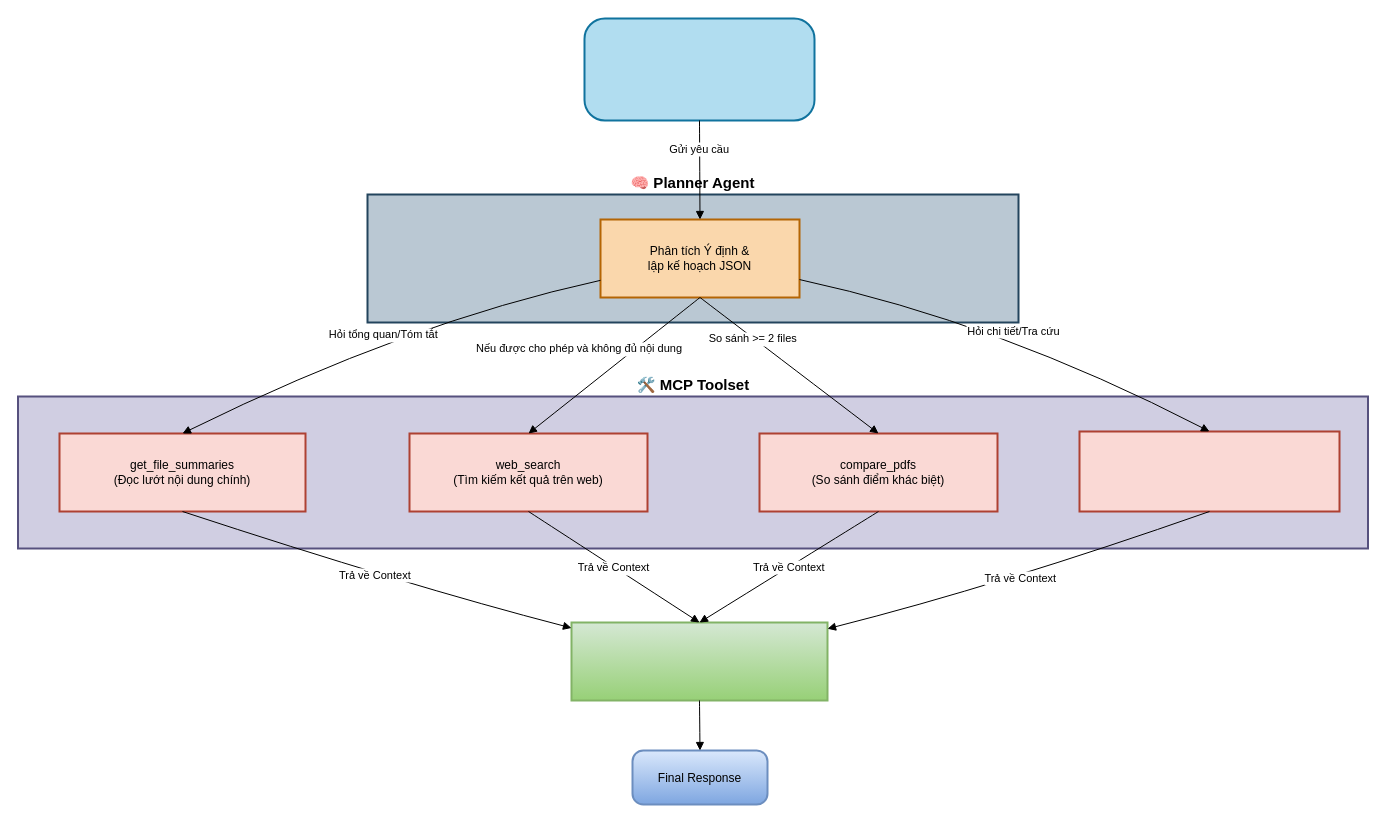
Image size: 1386x822. Some labels were removed from this diagram. Here are the shapes that lost their labels. From the top down, the centre of each, then its label:
(699,69): User Input
(1209,471): retrieve_chunks (Tìm kiếm/So sánh Vector)
(699,661): Answer Generator
